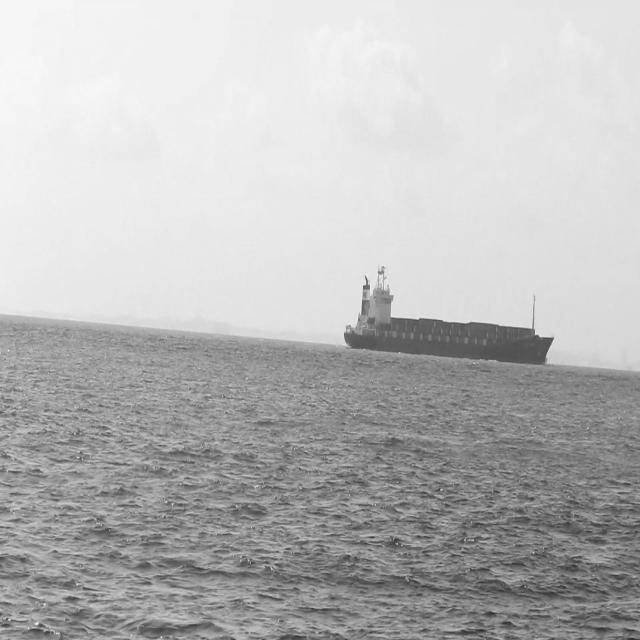ship: (343, 272, 554, 363)
